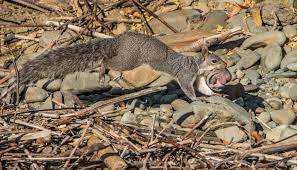squirrel: (16, 33, 231, 100)
